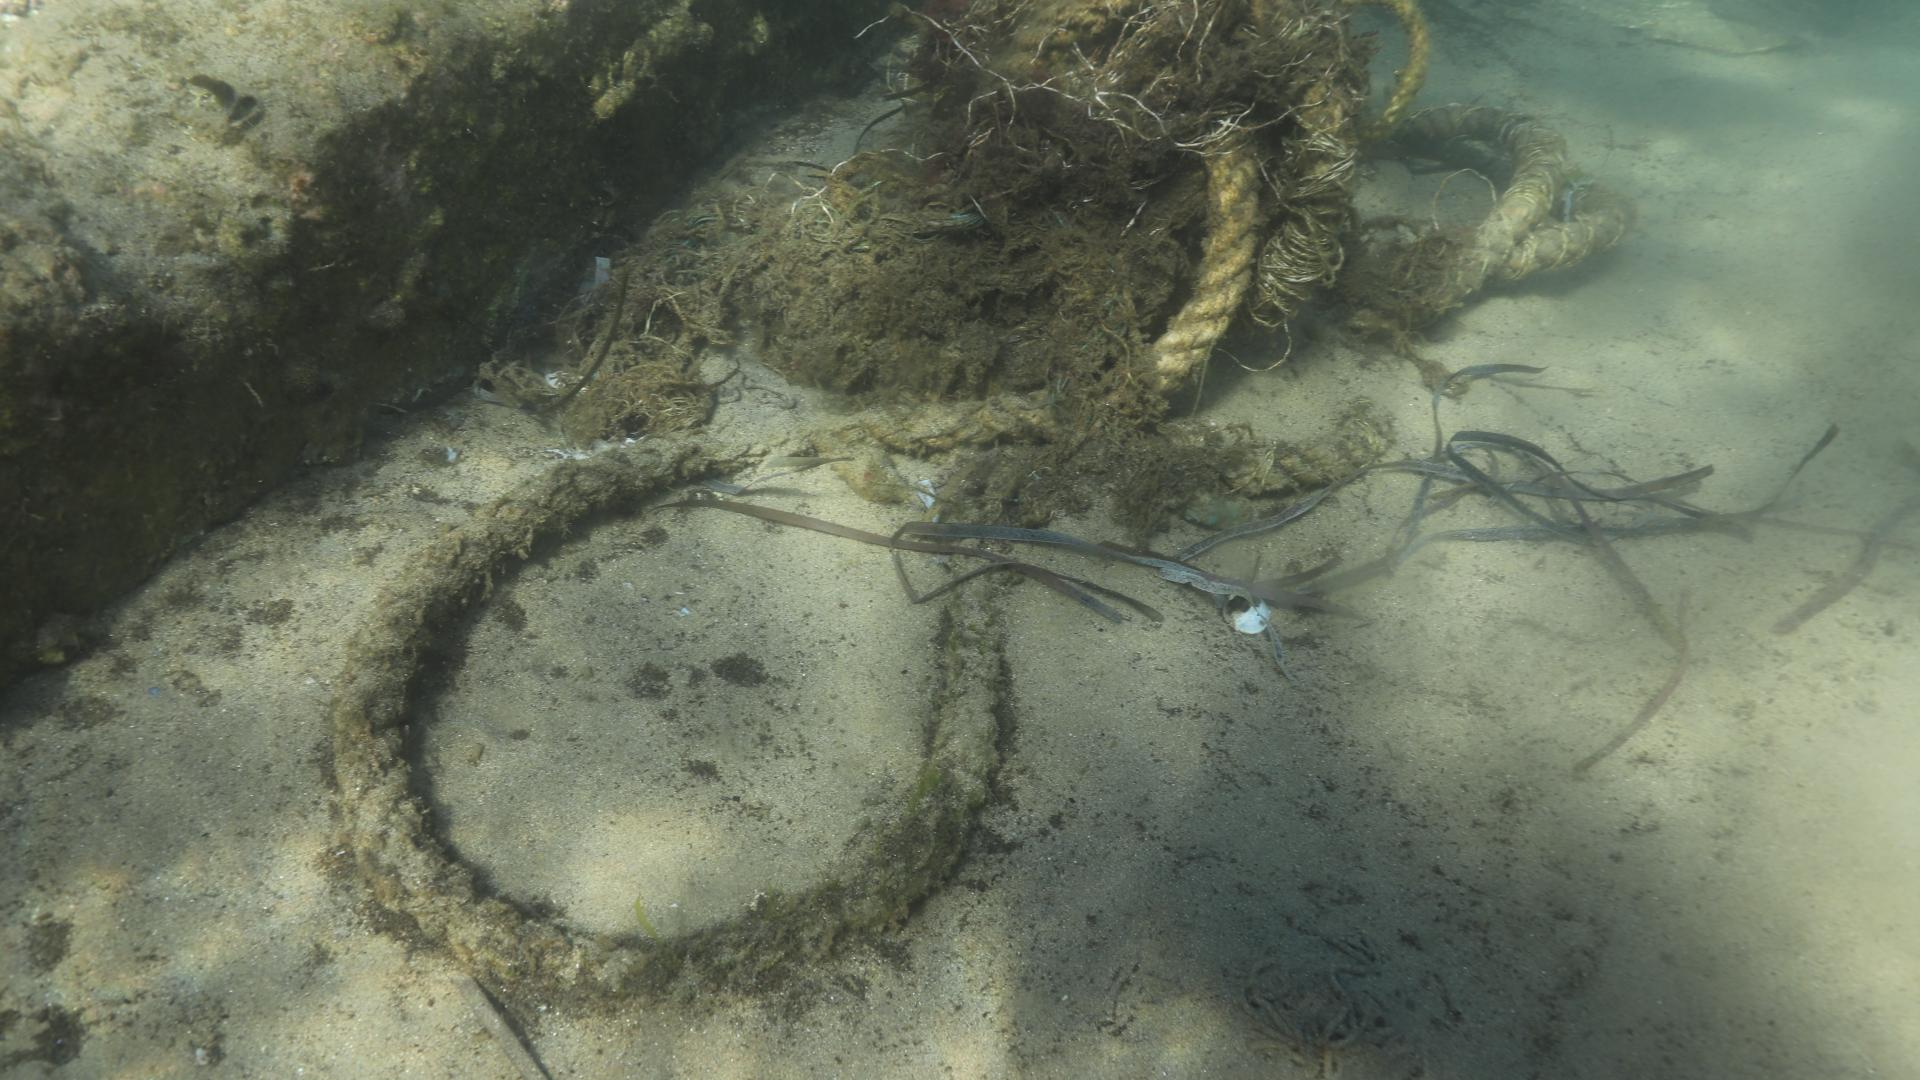bundle of ropes: (331, 95, 1630, 1004)
